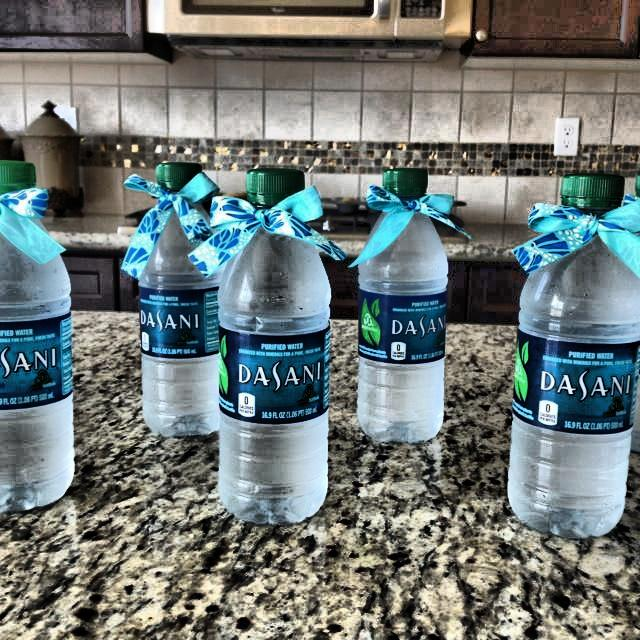Bottles: (499, 163, 640, 554), (205, 168, 348, 533), (120, 147, 245, 452), (0, 149, 98, 519), (354, 157, 466, 453)
